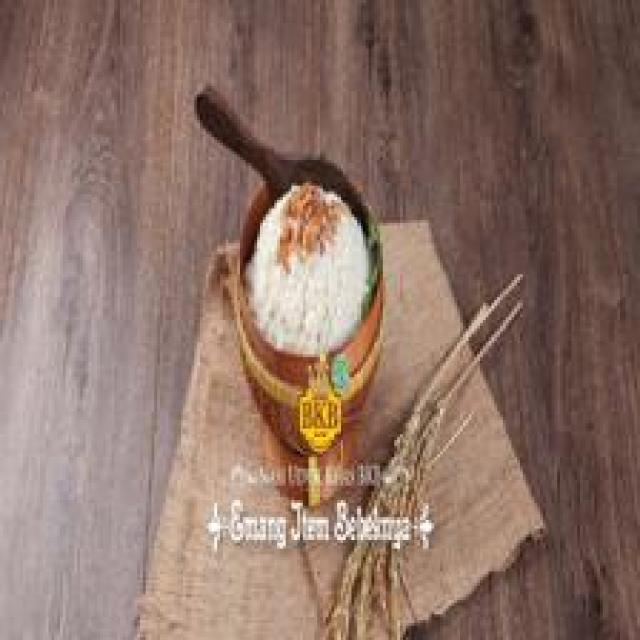Wet Waste: (245, 179, 379, 361)
